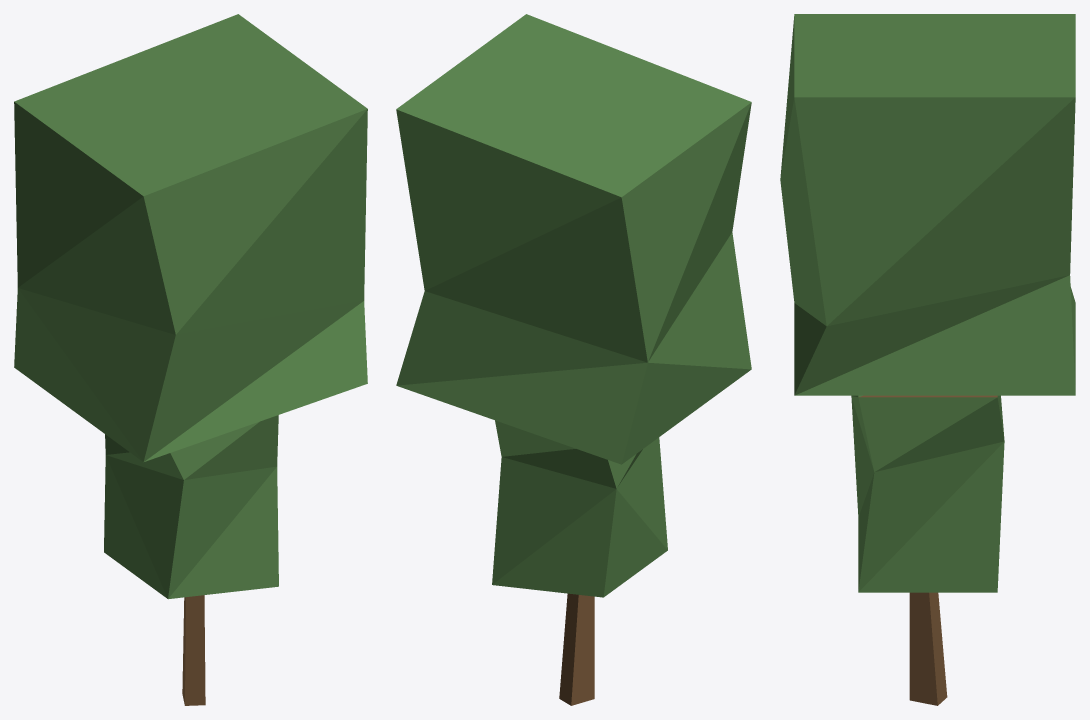
The model's file is tree3d-007.glb.
3 views of the same model, side by side, from view 1: azimuth 30°, elevation 25°; view 2: azimuth 150°, elevation 25°; view 3: azimuth 270°, elevation 25° (orthographic). The views are drawn at different scales.
Parts seen in each view (by area): view 1: tree3d-007; view 2: tree3d-007; view 3: tree3d-007.
Part boxes in pixels (<box>): tree3d-007: <box>14,14,367,705</box>; tree3d-007: <box>396,14,751,705</box>; tree3d-007: <box>780,14,1075,705</box>.
Bounding box in the file's own units: 0.4241 × 1 × 0.4048.
